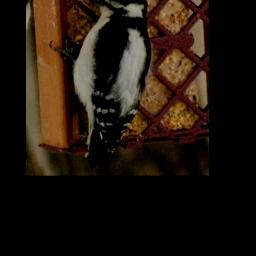Woodpecker: (50, 0, 151, 169)
